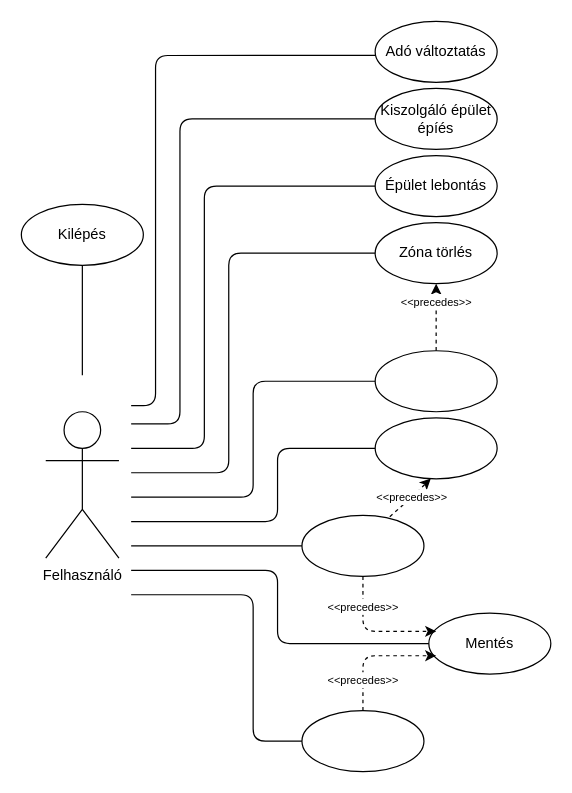
The diagram is 572 pixels wide and 793 high, and some of its shapes have lost their labels. The shapes that lost their labels are listed below. From the top down, each one's box as (x1, y1, x2, y2) in pixels, then its label:
(374, 350, 497, 412): Zóna kijelölés
(374, 417, 497, 479): Sebesség állítás
(301, 514, 424, 576): Új játék
(301, 709, 424, 772): Betöltés
